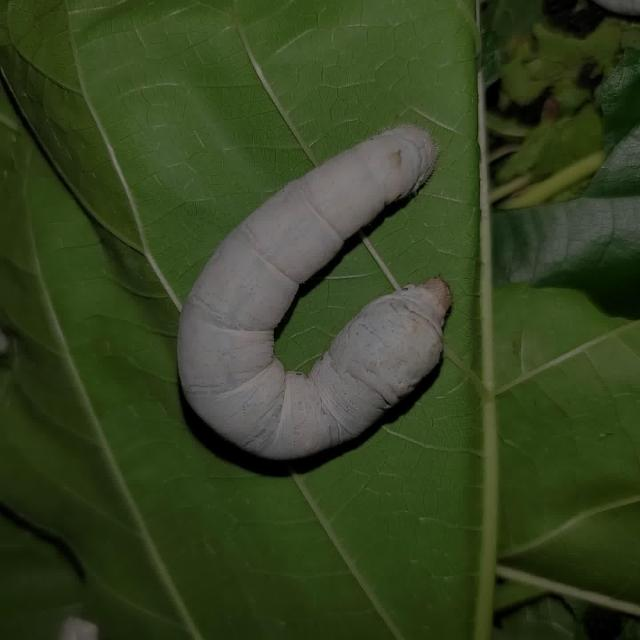Healthy: (157, 108, 459, 474)
